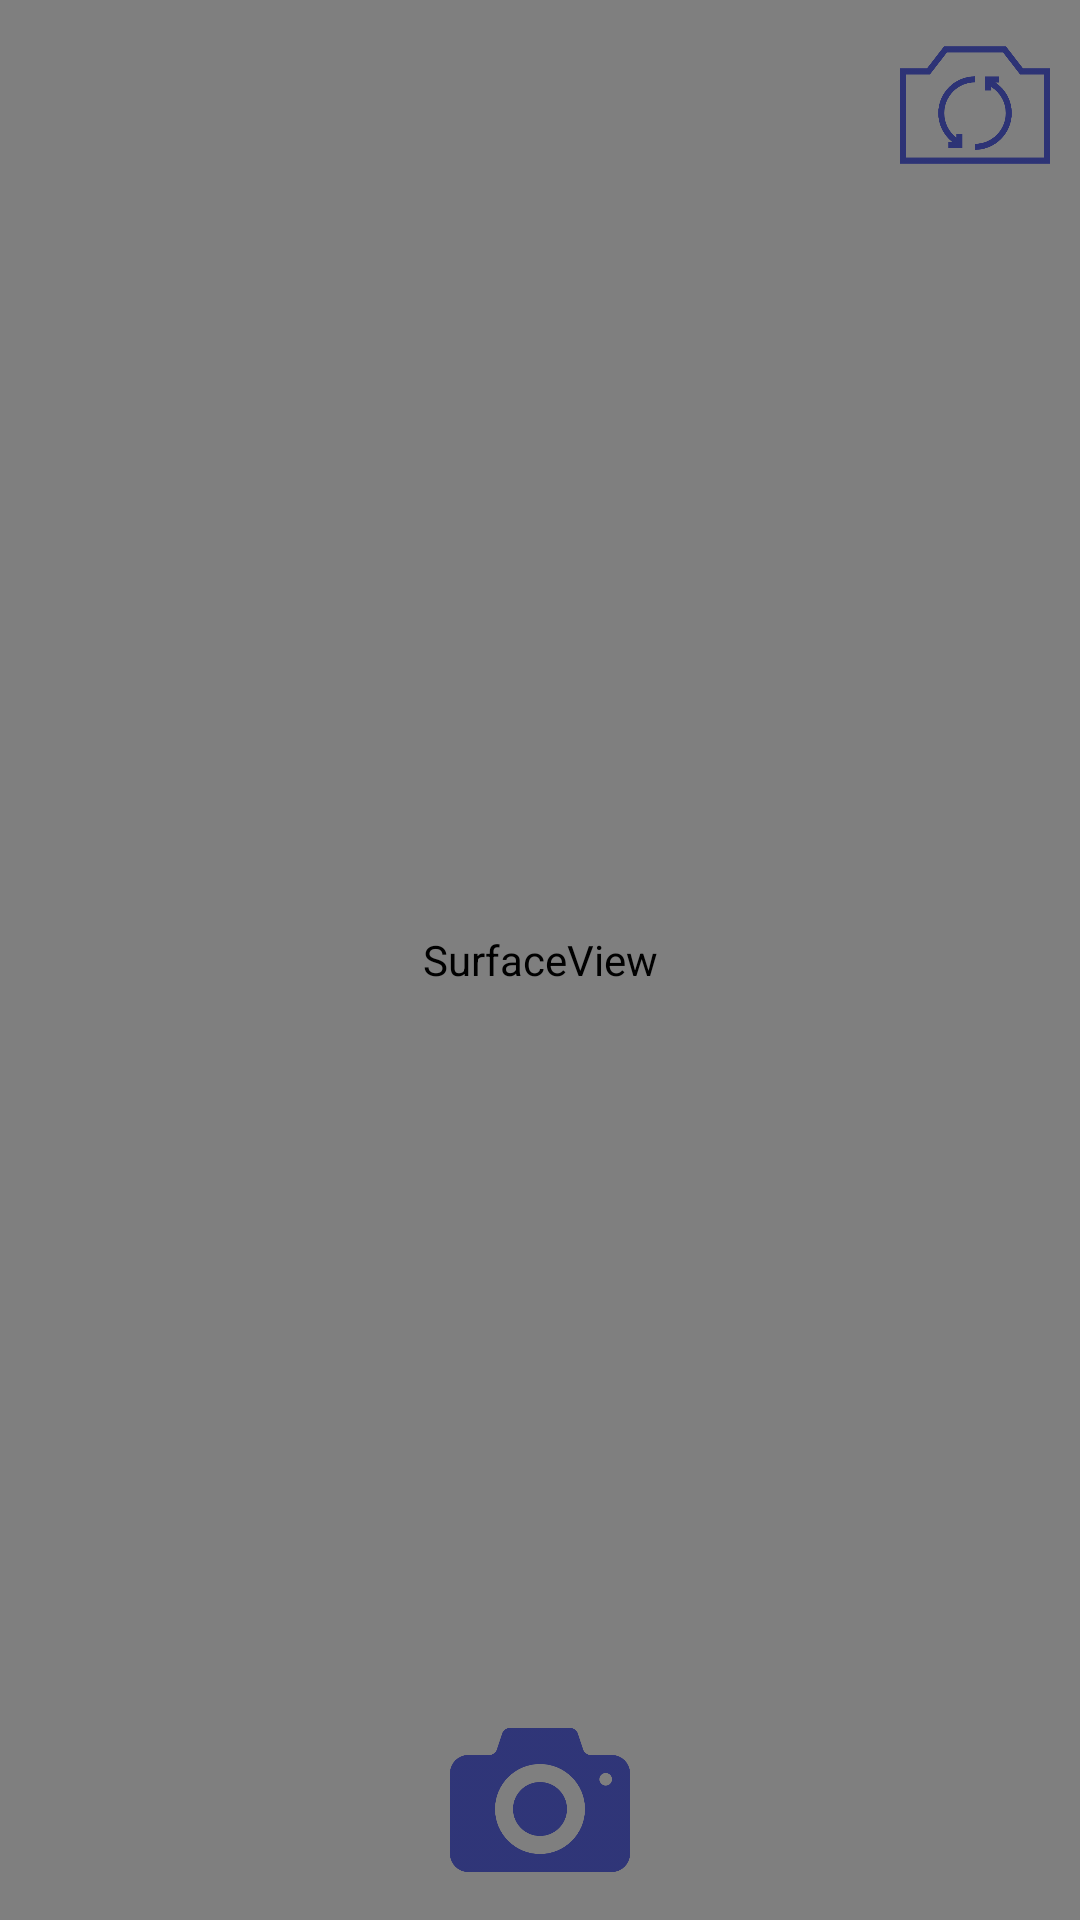

Where icons sit on this 1080px×1920px app screen, as (x1=x1, y1=y1, x2=x2, y2=y2):
camera swich: (x1=900, y1=46, x2=1050, y2=164)
